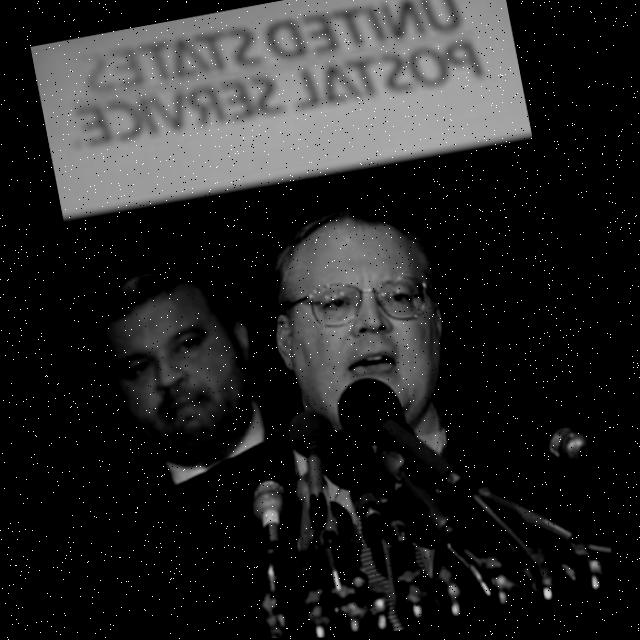face: (257, 200, 466, 450), (96, 254, 262, 478)
